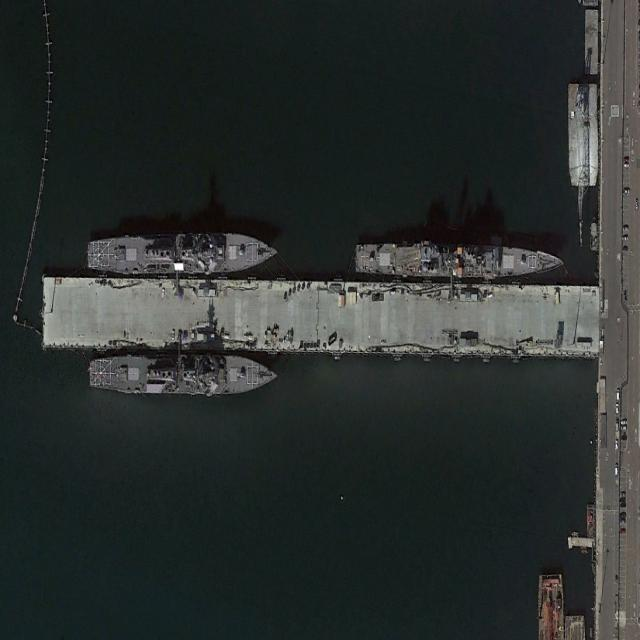Cruiser: (355, 240, 564, 282)
Destroyer: (88, 228, 279, 278), (89, 352, 278, 396)
